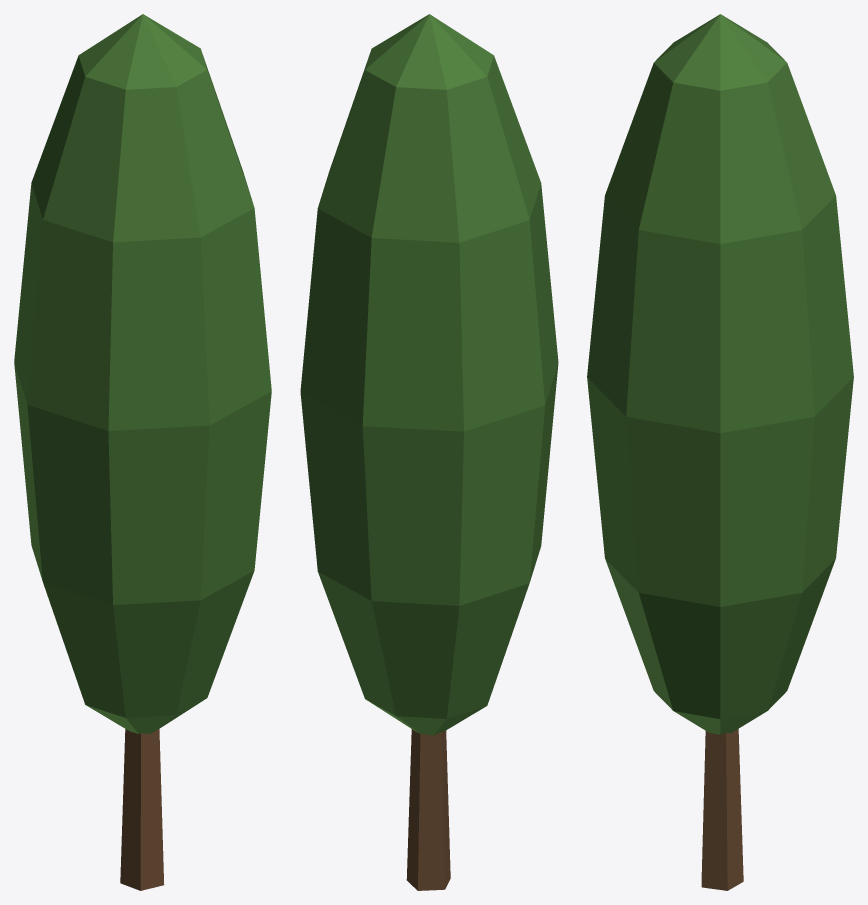
File: poplar_low.glb
The picture shows the model from 3 angles, left to right: view 1: azimuth 30°, elevation 25°; view 2: azimuth 150°, elevation 25°; view 3: azimuth 270°, elevation 25°; orthographic projection.
Visible parts, largest first — view 1: poplar_low; view 2: poplar_low; view 3: poplar_low.
Boxes of the visible parts, x1,y1,x2,y2 form: poplar_low: (14, 14, 271, 890); poplar_low: (300, 14, 558, 890); poplar_low: (587, 14, 853, 890).
Size of the model in its own units: 2.3 by 8.25 by 2.3.
